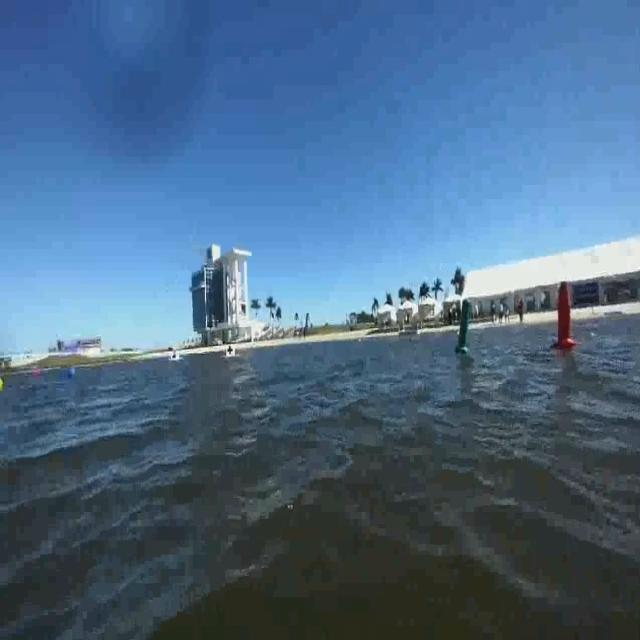blue-buoy: (66, 362, 76, 378)
green-column-buoy: (455, 300, 473, 356)
red-column-buoy: (553, 281, 577, 351)
yellow-buoy: (0, 376, 5, 396)
